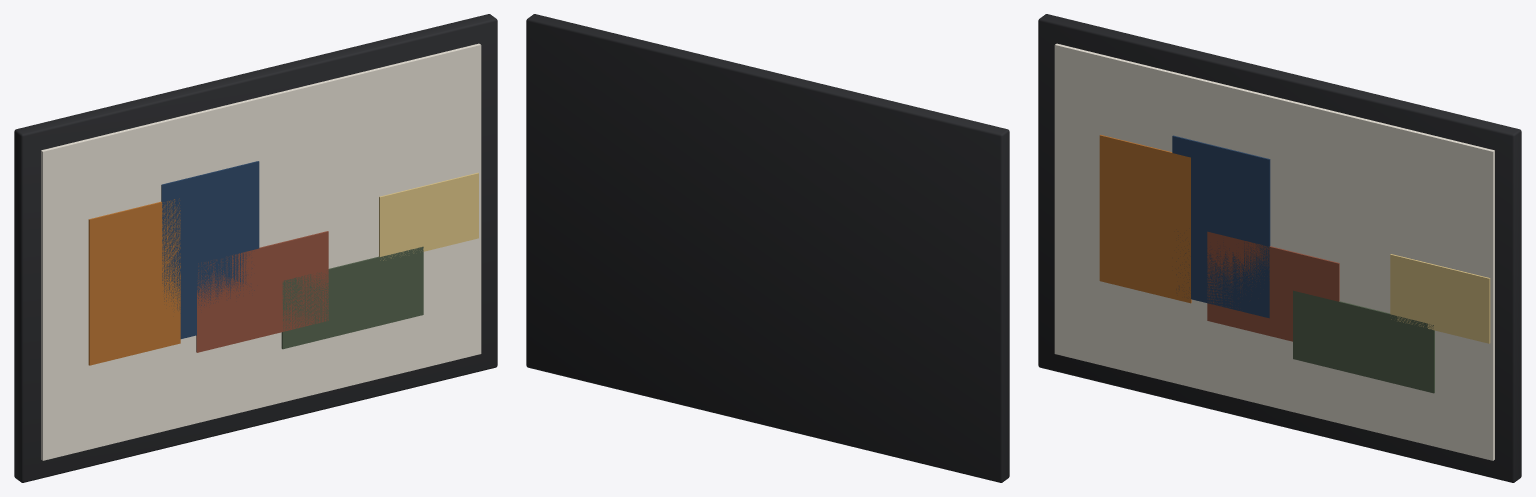
The model's file is quadro.glb.
3 views of the same model, side by side, from view 1: azimuth 30°, elevation 25°; view 2: azimuth 150°, elevation 25°; view 3: azimuth 330°, elevation 25° (orthographic).
Visible parts, largest first — view 1: p; view 2: p; view 3: p.
Boxes of the visible parts, box(x1,y1,x2,y2) form: p: box(14, 14, 497, 482); p: box(526, 14, 1009, 482); p: box(1038, 14, 1521, 482).
Size of the model in its own units: 1 by 0.7 by 0.04.
